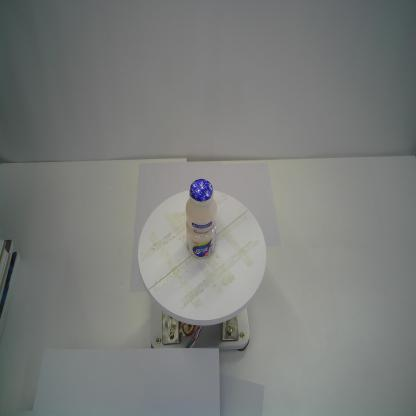Milk: (183, 177, 219, 261)
